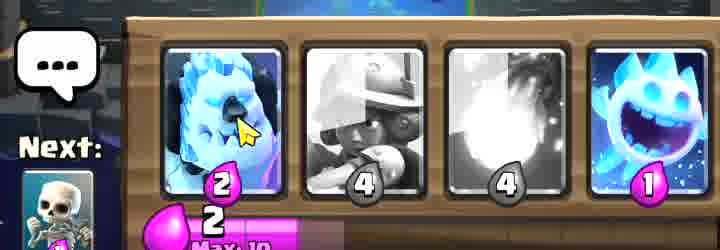ice-golem: (167, 49, 280, 198)
ice-spirit: (595, 45, 711, 200)
skeleton: (24, 171, 92, 250)
